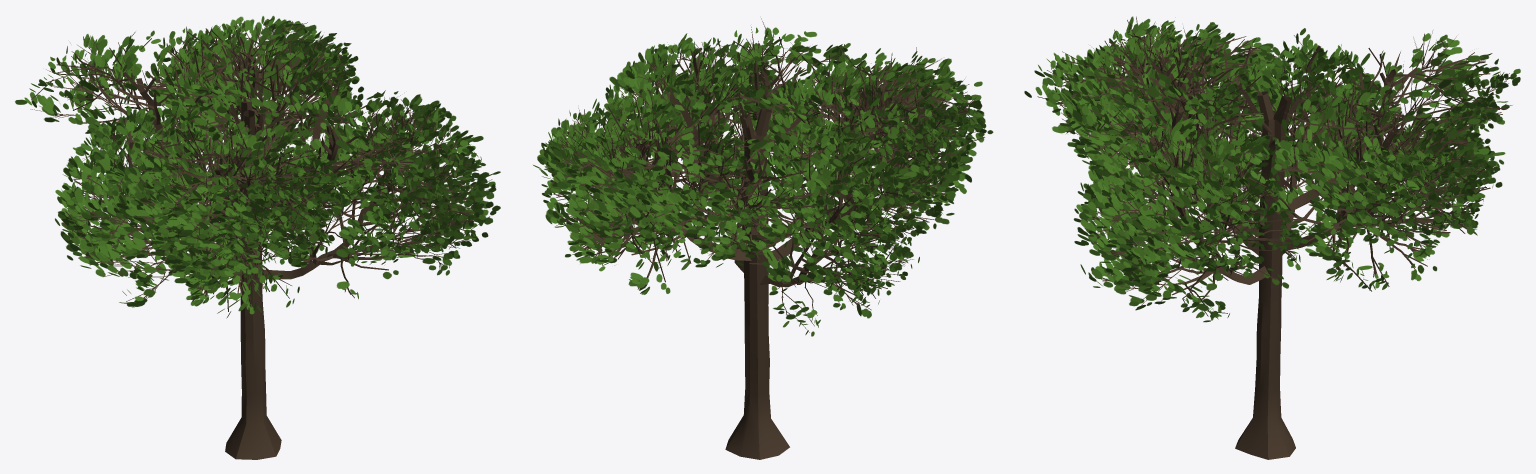
3 renders of one model, left to right at view 1: azimuth 30°, elevation 25°; view 2: azimuth 150°, elevation 25°; view 3: azimuth 270°, elevation 25°, orthographic. The views are drawn at different scales.
Parts seen in each view (by area): view 1: oak 01.001_trunk_Mat.001_0.095; view 2: oak 01.001_trunk_Mat.001_0.095; view 3: oak 01.001_trunk_Mat.001_0.095.
Boxes of the visible parts, <box> form: oak 01.001_trunk_Mat.001_0.095: <box>15,15,500,459</box>; oak 01.001_trunk_Mat.001_0.095: <box>533,18,993,459</box>; oak 01.001_trunk_Mat.001_0.095: <box>1024,16,1520,459</box>.
Bounding box in the file's own units: 5.35 × 4.89 × 5.96.
Materials: 2 (1 with a texture image).
